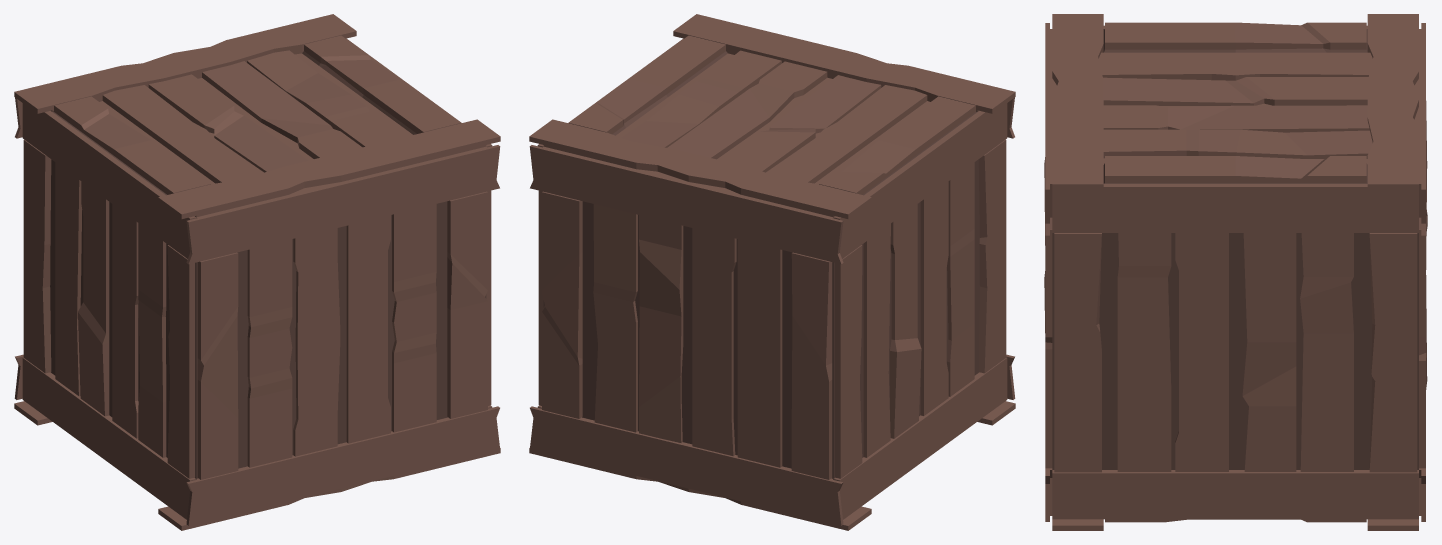
Rendered from crate.glb.
The picture shows the model from 3 angles, left to right: view 1: azimuth 30°, elevation 25°; view 2: azimuth 150°, elevation 25°; view 3: azimuth 270°, elevation 25°; orthographic projection. The views are drawn at different scales.
Visible parts, largest first — view 1: Crate; view 2: Crate; view 3: Crate.
Boxes of the visible parts, x1,y1,x2,y2 form: Crate: (14,14,500,530); Crate: (529,14,1015,530); Crate: (1044,14,1427,530).
Bounding box in the file's own units: 1.38 × 1.31 × 1.31.
